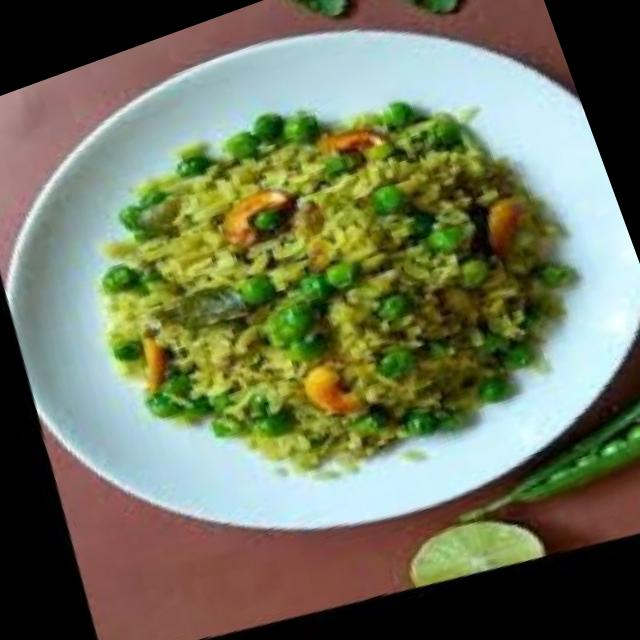poha: (36, 23, 625, 564)
